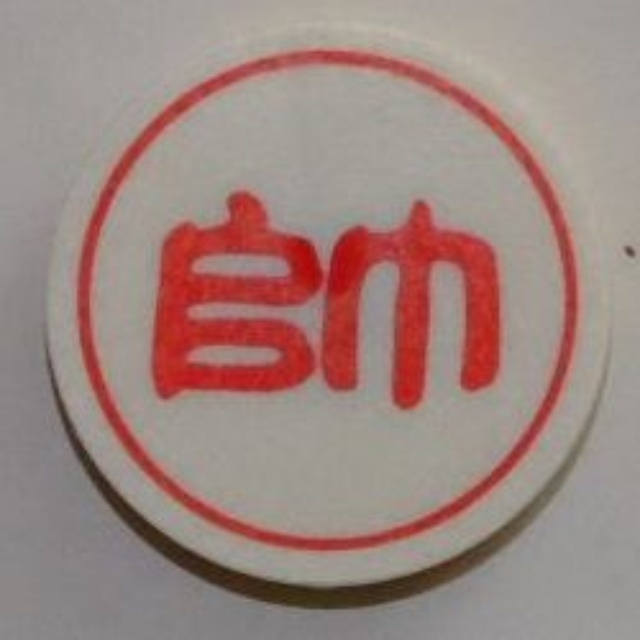red_tuong: (46, 14, 632, 599)
